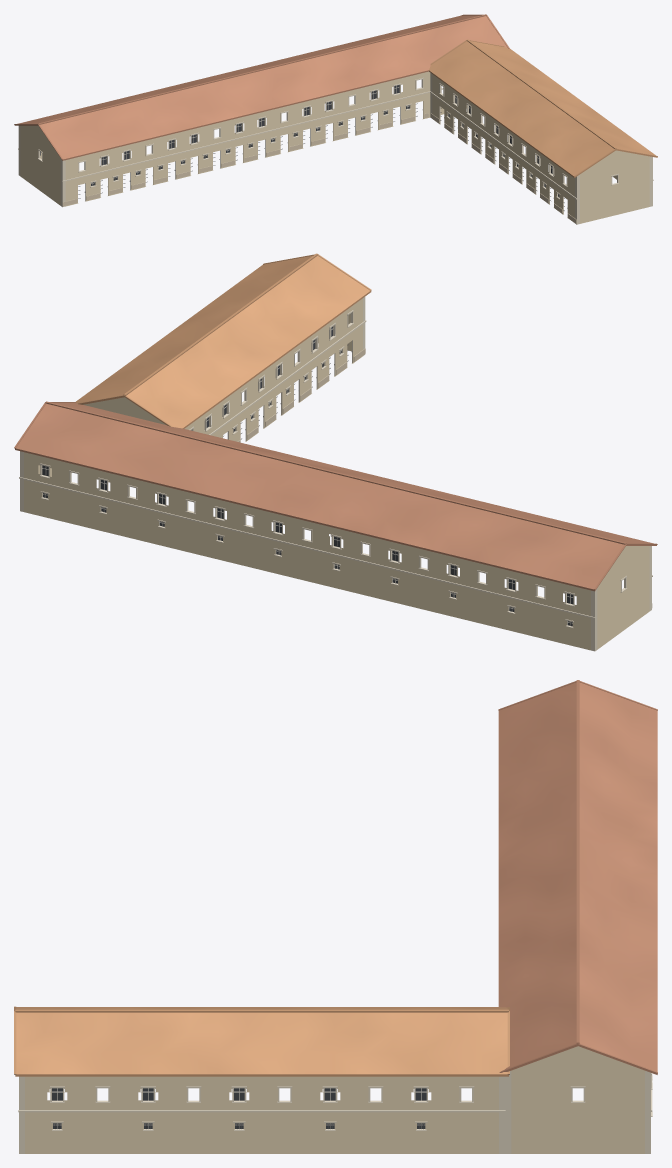
Rendered from SM_BM_BE_4_Stables.glb.
The picture shows the model from 3 angles, top to bottom: view 1: azimuth 30°, elevation 25°; view 2: azimuth 150°, elevation 25°; view 3: azimuth 270°, elevation 25°; orthographic projection. The views are drawn at different scales.
Visible parts, largest first — view 1: SM_BM_BE_4_Stables; view 2: SM_BM_BE_4_Stables; view 3: SM_BM_BE_4_Stables.
Boxes of the visible parts, x1=… form: SM_BM_BE_4_Stables: x1=14, y1=14, x2=657, y2=224; SM_BM_BE_4_Stables: x1=14, y1=253, x2=657, y2=651; SM_BM_BE_4_Stables: x1=14, y1=680, x2=657, y2=1153.
Size of the model in its own units: 70.96 by 10.22 by 52.96.
